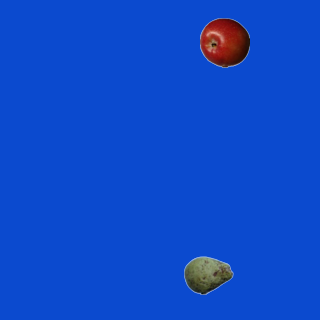Apple Braeburn: (199, 17, 249, 67)
Pear Stone: (183, 250, 233, 300)
